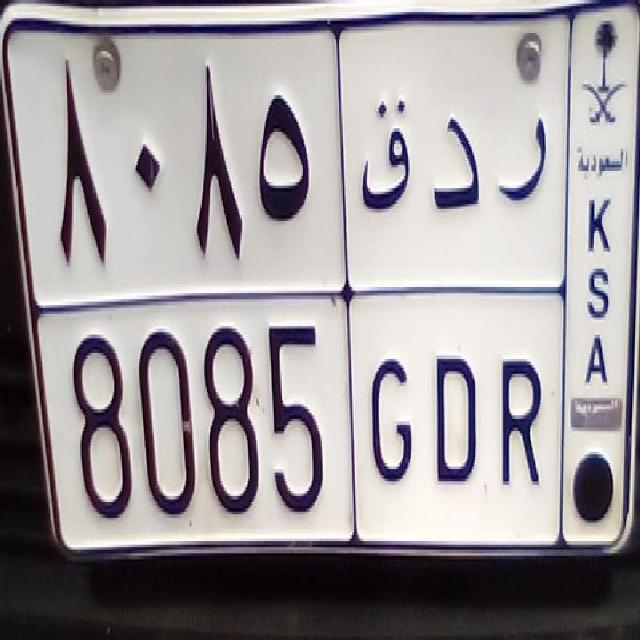license_plate: (53, 300, 559, 540)
